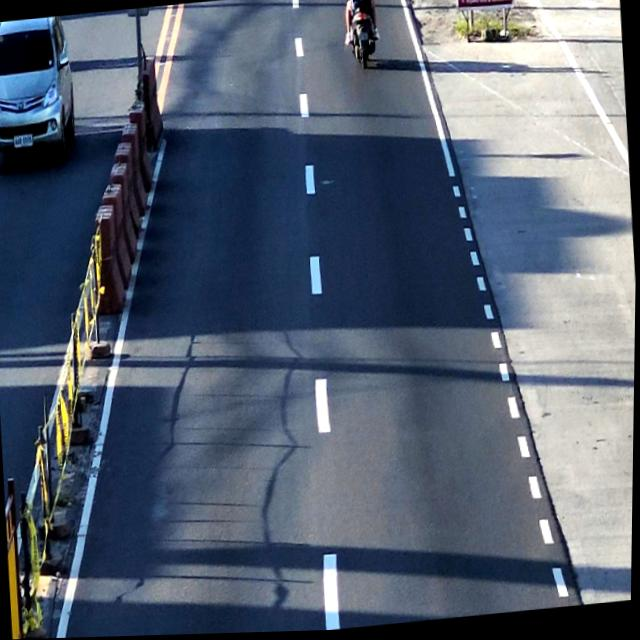Motorcycle: (339, 0, 381, 71)
